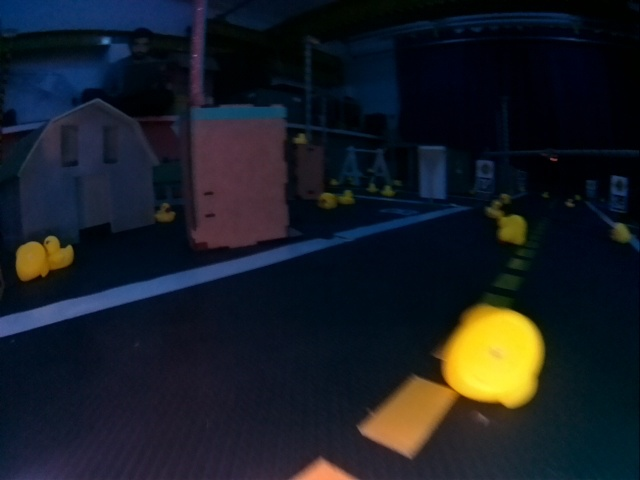Duckie: (442, 303, 542, 404), (16, 242, 49, 281), (47, 236, 74, 270), (498, 216, 524, 245), (612, 223, 631, 243), (155, 203, 175, 221), (486, 200, 502, 219), (319, 192, 336, 208), (338, 191, 354, 204), (294, 134, 307, 144), (382, 186, 392, 196), (368, 183, 378, 193), (501, 195, 511, 203)
